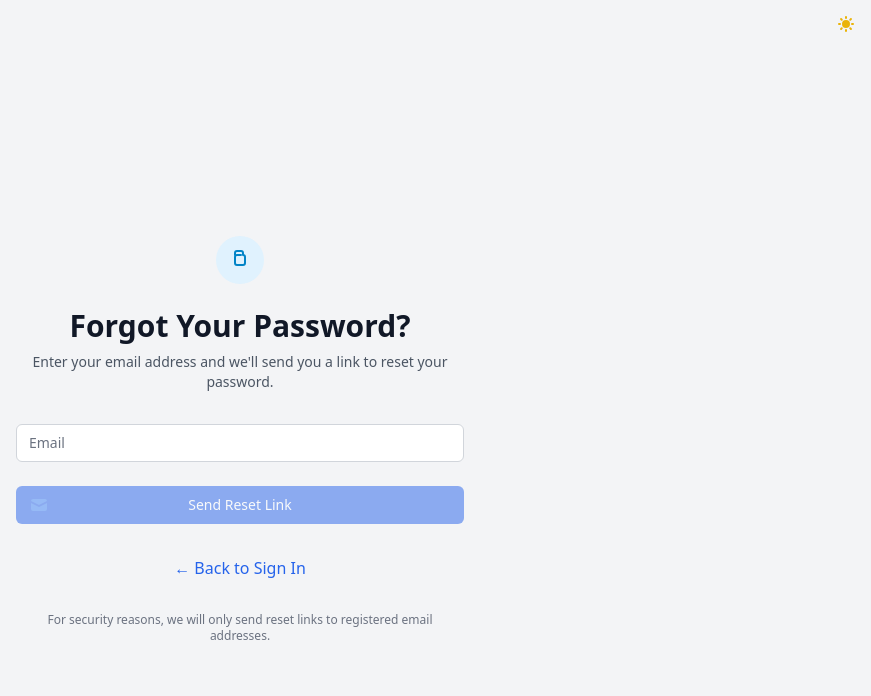
Scenario: ForgotPassword Component › Success State › should show success message after email sent
Type "test@example.com" into the field with id "email-address". click: point(240, 443)
box: [16,424,464,462]
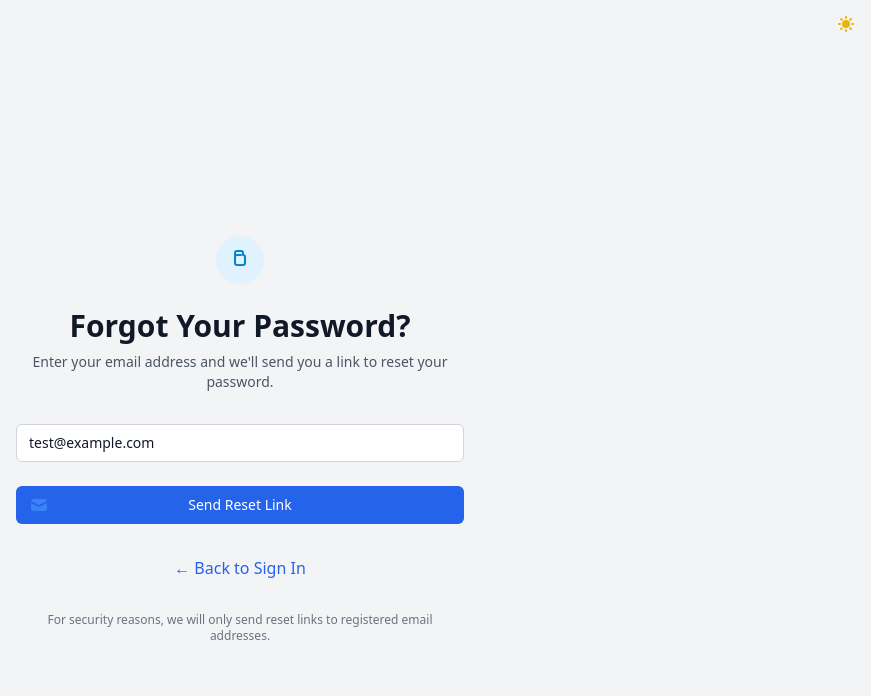
Submit the form, box [16,424,464,524]
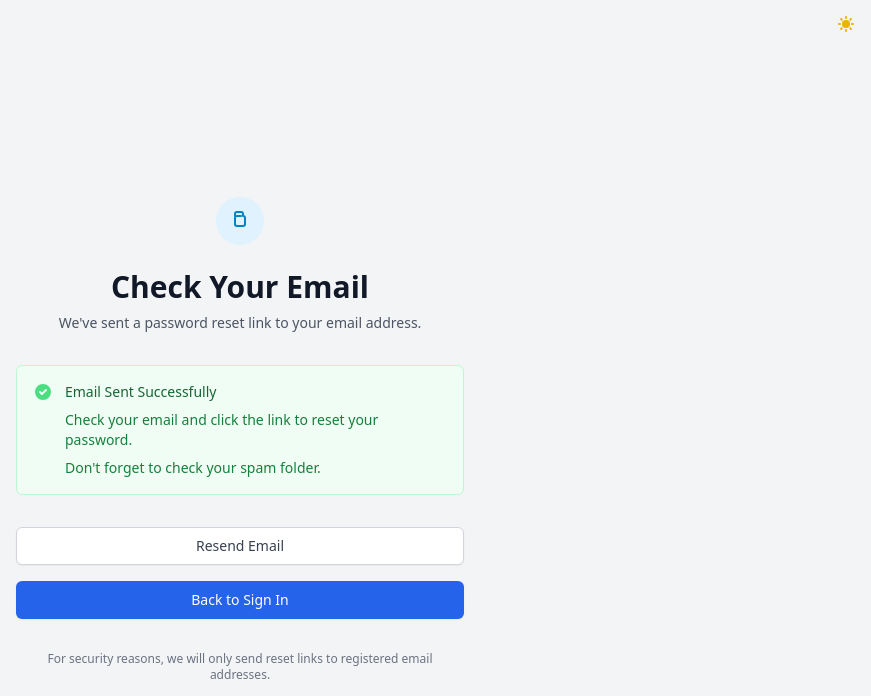
Now the heading "Check Your Email" is shown, box [111,266,369,307]
Now the text "We've sent a password reset link to your email address" is shown, box [59,313,421,332]
Now the text "Email Sent Successfully" is shown, box [65,382,216,401]
